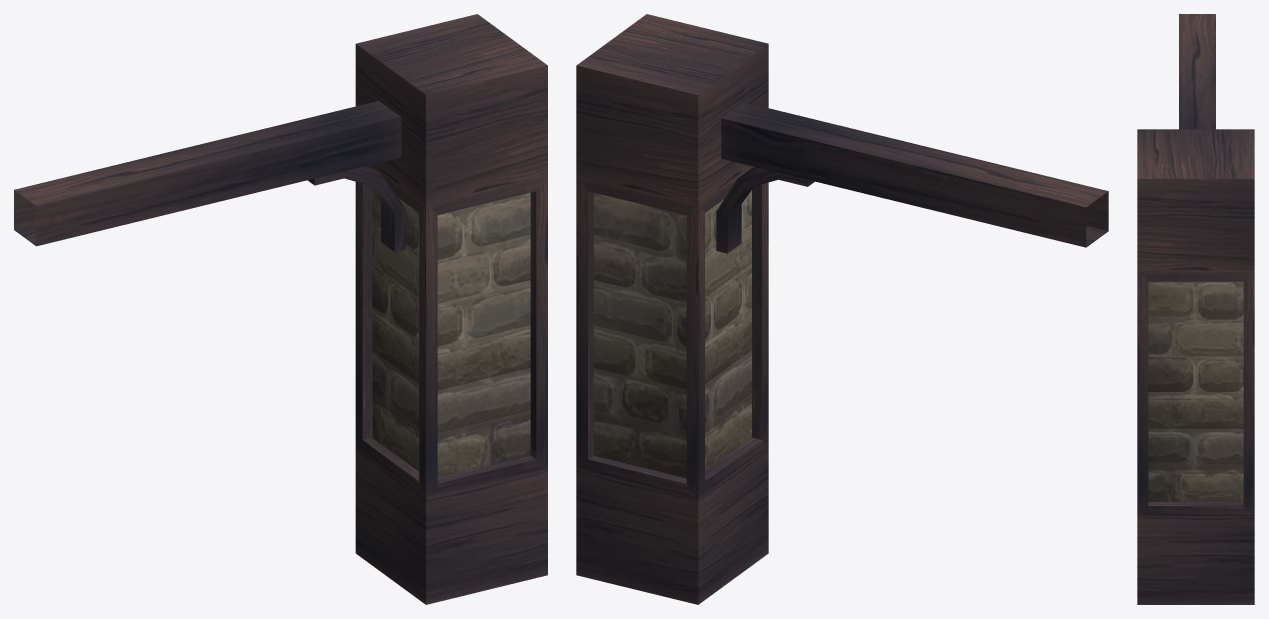
The model's file is Pillar_x1_NoEnd.fbx.
3 renders of one model, left to right at view 1: azimuth 30°, elevation 25°; view 2: azimuth 150°, elevation 25°; view 3: azimuth 270°, elevation 25°, orthographic. The views are drawn at different scales.
Parts seen in each view (by area): view 1: Pillar_x1_NoEnd; view 2: Pillar_x1_NoEnd; view 3: Pillar_x1_NoEnd.
Boxes of the visible parts, x1,y1,x2,y2 form: Pillar_x1_NoEnd: (14, 14, 547, 604); Pillar_x1_NoEnd: (576, 14, 1108, 604); Pillar_x1_NoEnd: (1137, 14, 1254, 604).
Size of the model in its own units: 0.6259 by 0.6265 by 0.1567.
